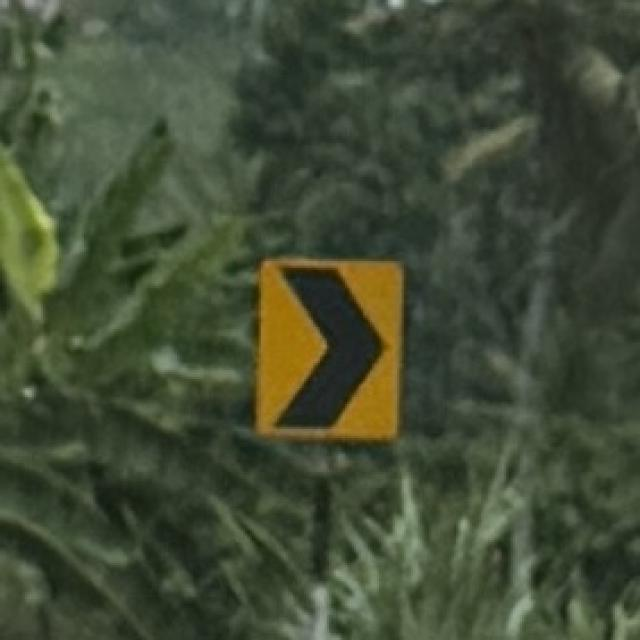TURN_RIGHT: (251, 248, 407, 444)
